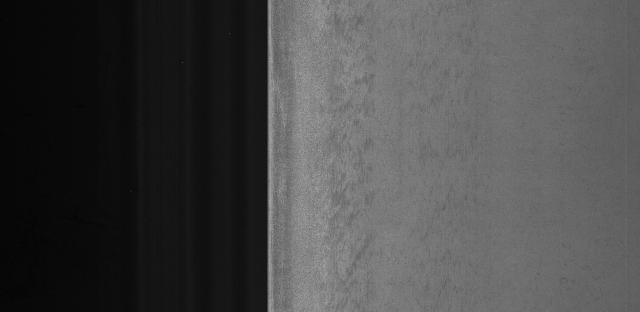silk_spot: (317, 20, 382, 275)
